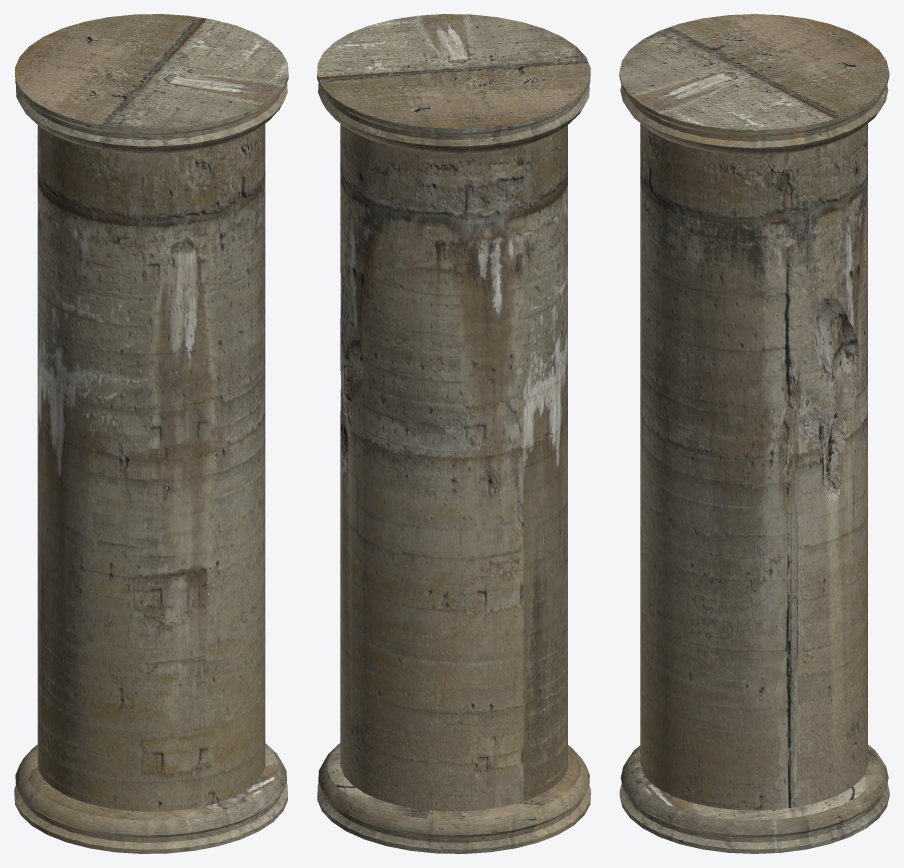
File: pillar.fbx
3 views of the same model, side by side, from view 1: azimuth 30°, elevation 25°; view 2: azimuth 150°, elevation 25°; view 3: azimuth 270°, elevation 25° (orthographic).
Visible parts, largest first — view 1: Pillar; view 2: Pillar; view 3: Pillar.
Boxes of the visible parts, left/top/right/bottom form: Pillar: left=14, top=14, right=288, bottom=853; Pillar: left=317, top=14, right=590, bottom=853; Pillar: left=619, top=14, right=889, bottom=853.
Bounding box in the file's own units: 242 × 702 × 237.
